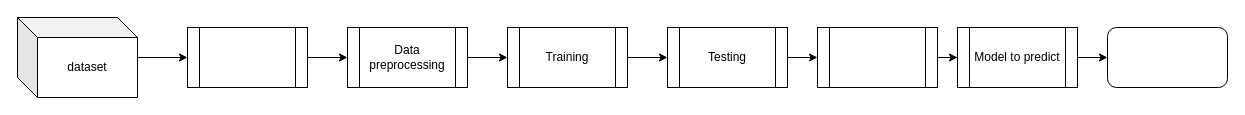
This 1245x115 diagram has some shape labels left out. The box of each missing label's shape, as (x1, y1, x2, y2) in pixels:
Feature extraction: (186, 26, 308, 88)
Models comparisons: (816, 26, 938, 88)
Phishing/safe: (1106, 26, 1228, 88)
